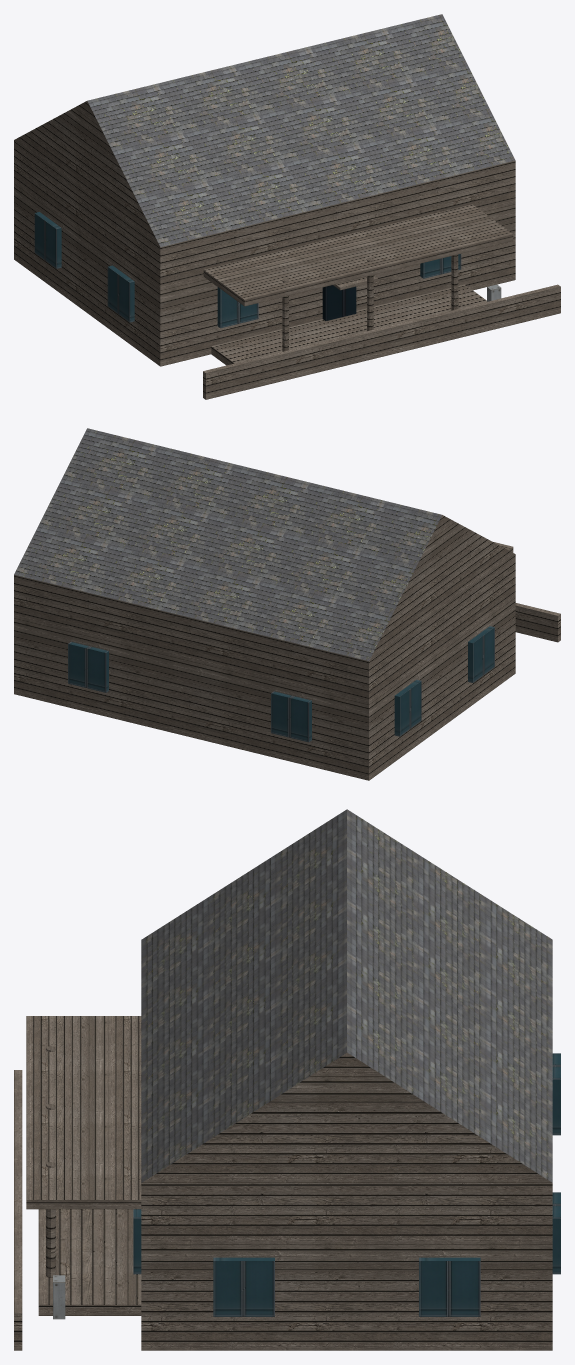
File: craftsman-bungalow_lod0.gltf
3 renders of one model, top to bottom at view 1: azimuth 30°, elevation 25°; view 2: azimuth 150°, elevation 25°; view 3: azimuth 270°, elevation 25°, orthographic. The views are drawn at different scales.
Parts seen in each view (by area): view 1: craftsman-bungalow_roof, craftsman-bungalow_walls, craftsman-bungalow_porch, craftsman-bungalow__fence, craftsman-bungalow_gable_ends, craftsman-bungalow_fen_07-glass-curtain-blue_0, craftsman-bungalow_fen_07-glass-curtain-blue_1_t; view 2: craftsman-bungalow_roof, craftsman-bungalow_walls, craftsman-bungalow_gable_ends, craftsman-bungalow_fen_07-glass-curtain-blue_0, craftsman-bungalow__fence; view 3: craftsman-bungalow_roof, craftsman-bungalow_walls, craftsman-bungalow_porch, craftsman-bungalow_gable_ends, craftsman-bungalow_fen_07-glass-curtain-blue_0, craftsman-bungalow__fence.
Part boxes in pixels (x1=…): craftsman-bungalow_roof: x1=87, y1=14, x2=515, y2=246; craftsman-bungalow_walls: x1=14, y1=140, x2=515, y2=366; craftsman-bungalow_porch: x1=203, y1=204, x2=513, y2=365; craftsman-bungalow__fence: x1=203, y1=284, x2=560, y2=399; craftsman-bungalow_gable_ends: x1=14, y1=101, x2=159, y2=246; craftsman-bungalow_fen_07-glass-curtain-blue_0: x1=34, y1=212, x2=461, y2=328; craftsman-bungalow_fen_07-glass-curtain-blue_1_t: x1=322, y1=285, x2=356, y2=320; craftsman-bungalow_roof: x1=14, y1=428, x2=441, y2=661; craftsman-bungalow_walls: x1=14, y1=554, x2=515, y2=780; craftsman-bungalow_gable_ends: x1=369, y1=515, x2=515, y2=660; craftsman-bungalow_fen_07-glass-curtain-blue_0: x1=68, y1=626, x2=494, y2=742; craftsman-bungalow__fence: x1=515, y1=603, x2=560, y2=642; craftsman-bungalow_roof: x1=141, y1=809, x2=552, y2=1182; craftsman-bungalow_walls: x1=141, y1=1183, x2=552, y2=1350; craftsman-bungalow_porch: x1=26, y1=1016, x2=141, y2=1315; craftsman-bungalow_gable_ends: x1=142, y1=1052, x2=551, y2=1182; craftsman-bungalow_fen_07-glass-curtain-blue_0: x1=133, y1=1053, x2=560, y2=1316; craftsman-bungalow__fence: x1=14, y1=1070, x2=22, y2=1350.
Bounding box in the file's own units: 14.4 × 8 × 13.3.
